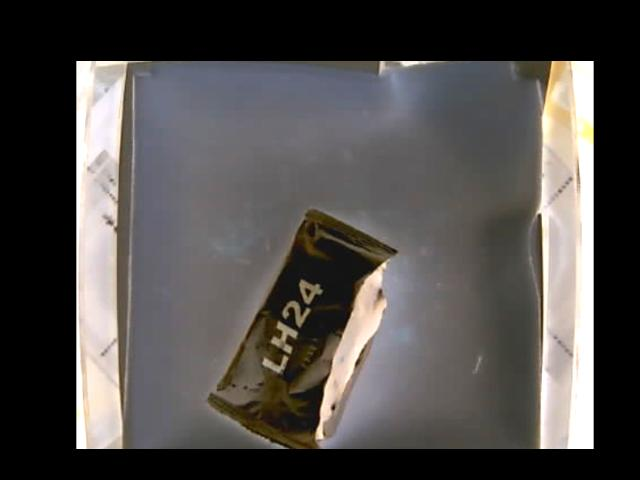Medicine: (207, 206, 398, 448)
